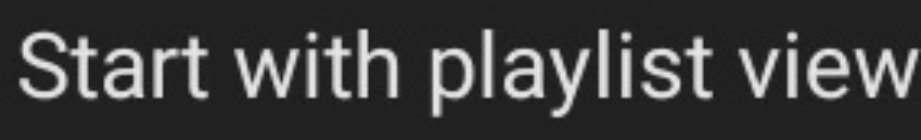TextView: (1, 1, 920, 139)
